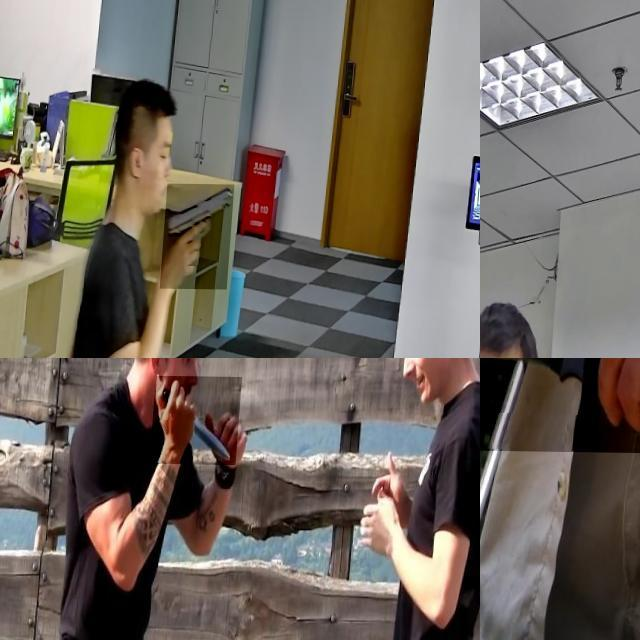-: (480, 358, 640, 455), (153, 375, 244, 464)
gun-knife-thesis - v11 Yolov5 augmented: (166, 182, 239, 288), (480, 244, 511, 358)
